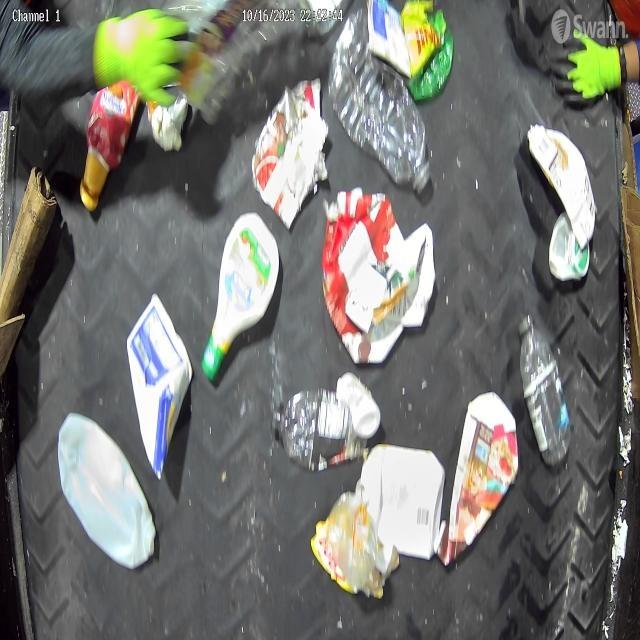milk_jug: (55, 410, 158, 574)
non_white_jug: (206, 213, 279, 380)
plastic_bottle: (327, 9, 432, 192), (518, 314, 571, 469), (274, 390, 364, 470)
